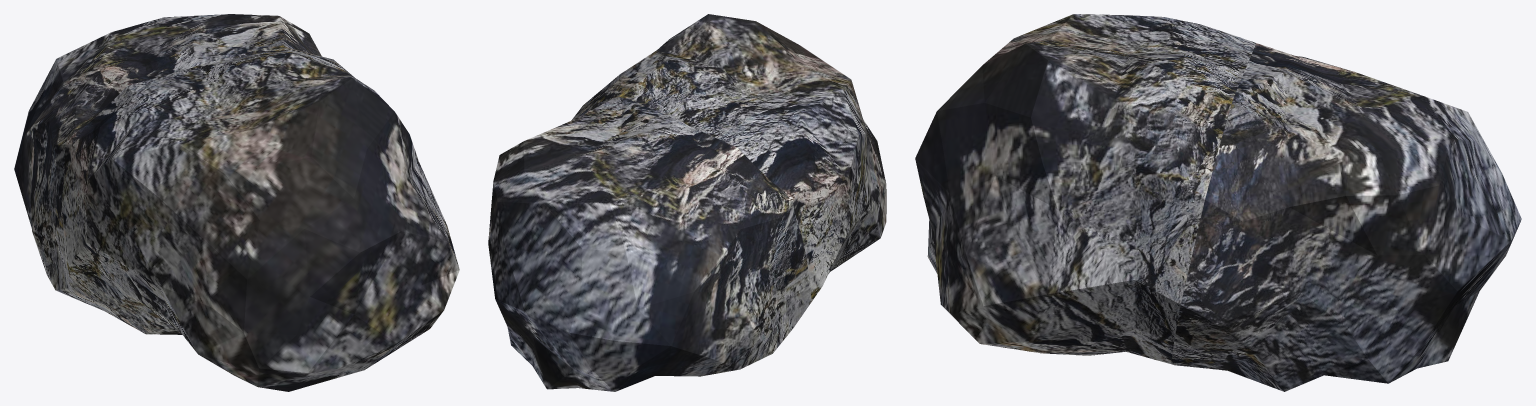
The model's file is Rock_2.obj.
3 views of the same model, side by side, from view 1: azimuth 30°, elevation 25°; view 2: azimuth 150°, elevation 25°; view 3: azimuth 270°, elevation 25° (orthographic). The views are drawn at different scales.
Parts seen in each view (by area): view 1: Icosphere; view 2: Icosphere; view 3: Icosphere.
Part boxes in pixels (x1,y1,x2,y2): Icosphere: (14,14,459,391); Icosphere: (488,14,886,391); Icosphere: (915,14,1521,391).
Bounding box in the file's own units: 1.86 × 1.66 × 2.93.
1 material, 1 textured.
